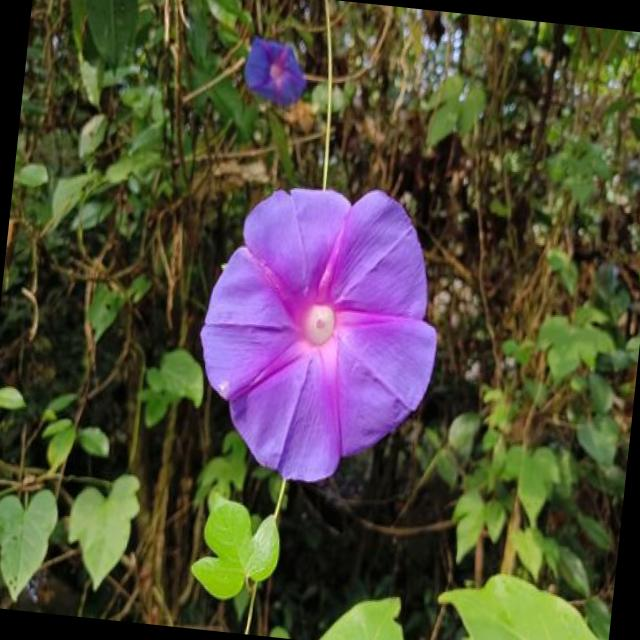ipomoea: (182, 169, 456, 500), (236, 30, 314, 116)
